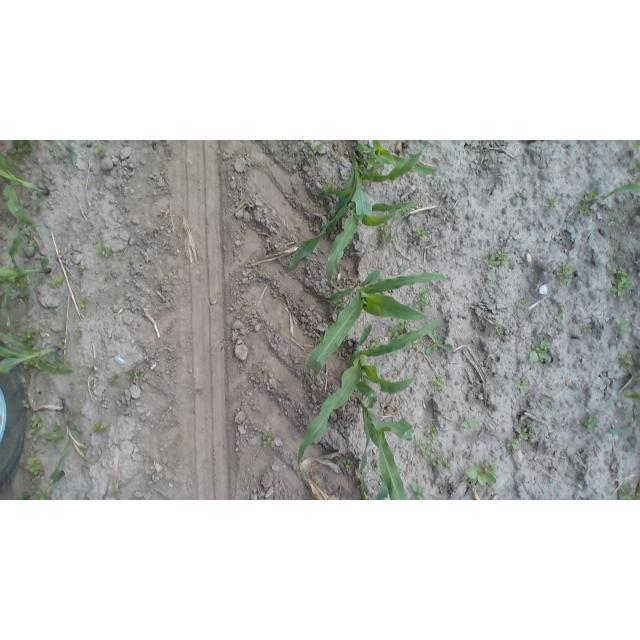Maize: (297, 318, 442, 482), (287, 146, 425, 279), (308, 268, 448, 373), (357, 397, 415, 500), (0, 227, 52, 322), (1, 156, 52, 225), (1, 331, 74, 378), (355, 141, 439, 180), (51, 399, 87, 481), (609, 402, 638, 434), (604, 182, 640, 204), (37, 471, 64, 500), (57, 141, 78, 168), (626, 393, 640, 400)
Weeds: (606, 260, 633, 298), (463, 459, 499, 486), (426, 331, 454, 357), (483, 247, 510, 273), (527, 337, 553, 363), (579, 187, 598, 217), (11, 141, 34, 164), (556, 262, 577, 286), (45, 419, 64, 445), (26, 413, 44, 439), (26, 456, 47, 478), (580, 410, 600, 433), (19, 326, 41, 346), (460, 414, 480, 435), (517, 422, 537, 443), (415, 288, 434, 310), (413, 441, 437, 458), (95, 238, 114, 259), (612, 317, 631, 336), (543, 195, 562, 214), (619, 482, 637, 500), (410, 482, 428, 500), (514, 373, 531, 391), (431, 373, 447, 391), (94, 420, 111, 436), (126, 367, 142, 383), (619, 352, 634, 369), (91, 144, 107, 159), (261, 433, 278, 447), (506, 436, 519, 453), (426, 423, 439, 440), (310, 141, 325, 155), (48, 277, 64, 290), (386, 324, 399, 338), (340, 457, 354, 470), (65, 409, 79, 422), (379, 235, 395, 246), (430, 454, 444, 466), (312, 259, 324, 272), (418, 225, 429, 239), (367, 163, 381, 174), (398, 262, 410, 274), (399, 320, 412, 331), (494, 323, 505, 336), (631, 369, 640, 384), (377, 224, 391, 233), (21, 400, 32, 411), (111, 374, 122, 385), (78, 299, 89, 310), (554, 311, 564, 323), (22, 362, 35, 371), (14, 293, 28, 301), (332, 299, 343, 309), (57, 360, 68, 370), (583, 324, 593, 335), (76, 264, 85, 276), (371, 336, 381, 346), (28, 239, 40, 247), (6, 219, 14, 231), (487, 485, 496, 495), (35, 278, 45, 287), (34, 202, 43, 212), (370, 462, 378, 472), (73, 329, 83, 337), (634, 158, 640, 171), (69, 382, 78, 390), (631, 142, 639, 151), (517, 299, 527, 306), (323, 183, 331, 191), (445, 459, 452, 468), (400, 209, 409, 216), (578, 474, 585, 482), (409, 343, 417, 350), (18, 281, 23, 292), (483, 281, 490, 288), (608, 220, 615, 227), (49, 309, 57, 315), (40, 175, 46, 182), (635, 492, 640, 500), (317, 336, 323, 342), (305, 140, 311, 145), (549, 480, 554, 485)
